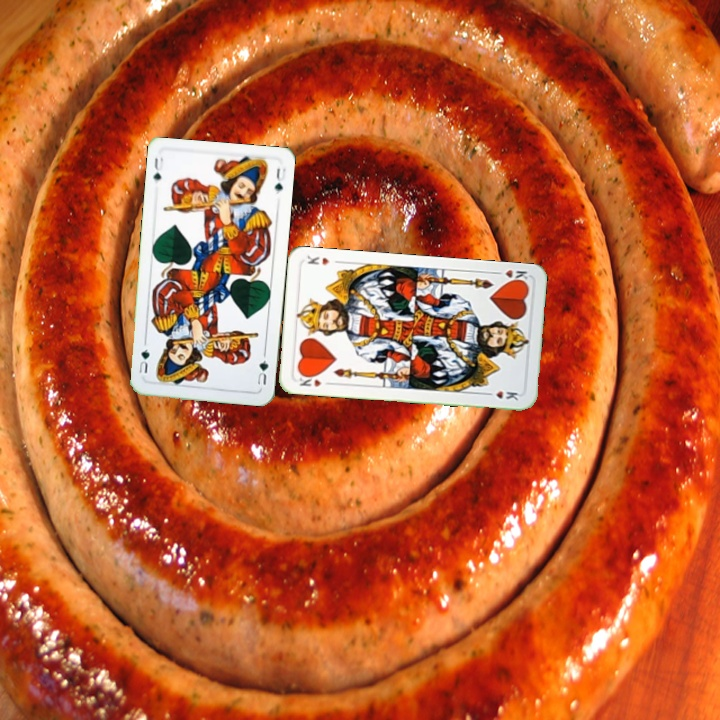GU: (253, 349, 271, 387), (149, 153, 166, 183)
HK: (490, 266, 530, 286), (295, 370, 324, 389)
